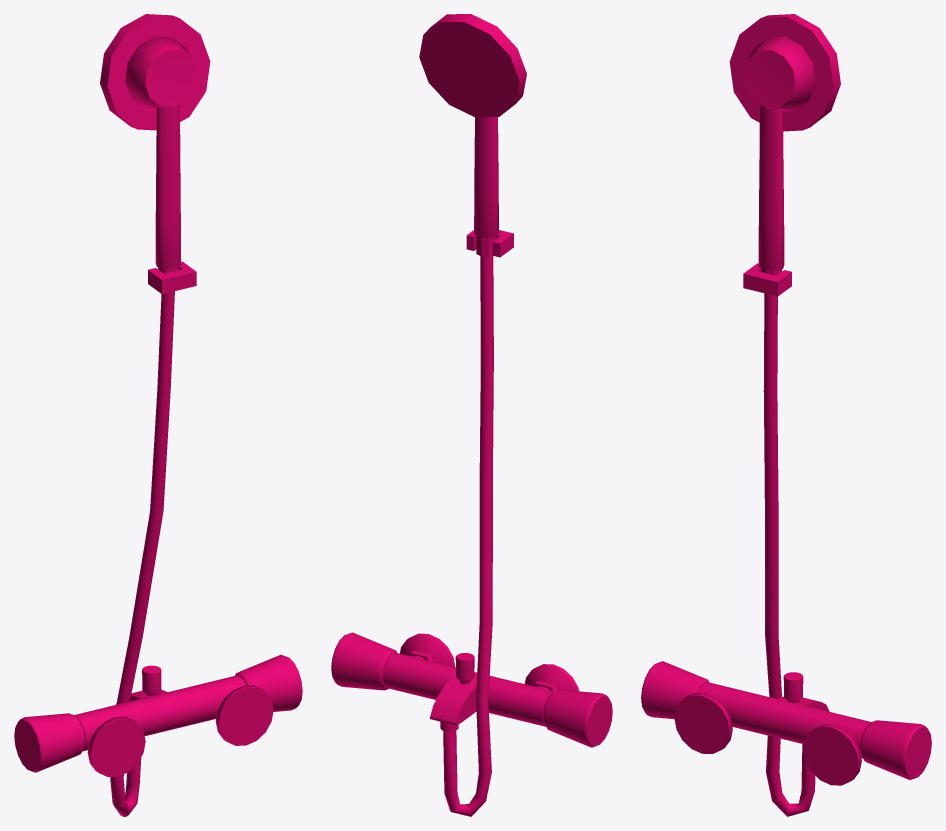
File: Bath_Faucet_02_Lod0.fbx
3 renders of one model, left to right at view 1: azimuth 30°, elevation 25°; view 2: azimuth 150°, elevation 25°; view 3: azimuth 330°, elevation 25°, orthographic. The views are drawn at different scales.
Visible parts, largest first — view 1: Bath_Faucet_02_Lod0; view 2: Bath_Faucet_02_Lod0; view 3: Bath_Faucet_02_Lod0.
Part boxes in pixels (box(x1,y1,x2,y2)): Bath_Faucet_02_Lod0: box(14, 14, 302, 816); Bath_Faucet_02_Lod0: box(331, 14, 612, 816); Bath_Faucet_02_Lod0: box(641, 14, 931, 816).
Bounding box in the file's own units: 37.86 × 112 × 13.14.
